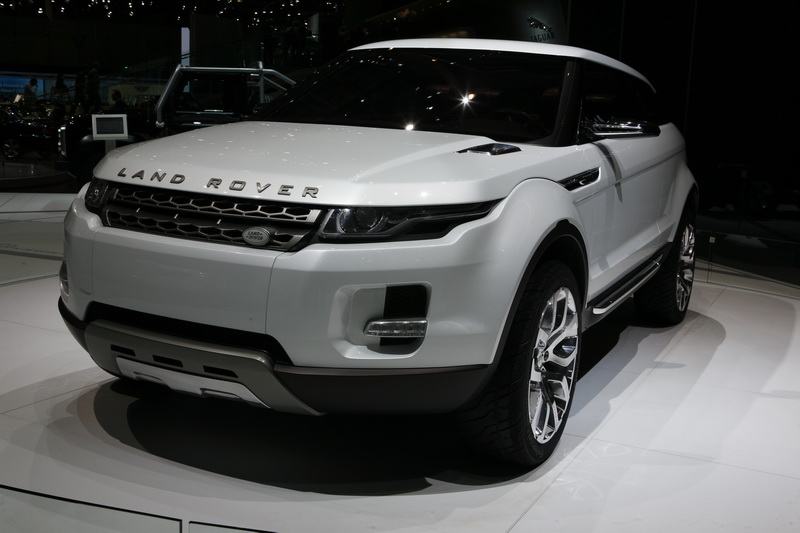pickup: (61, 38, 696, 468)
